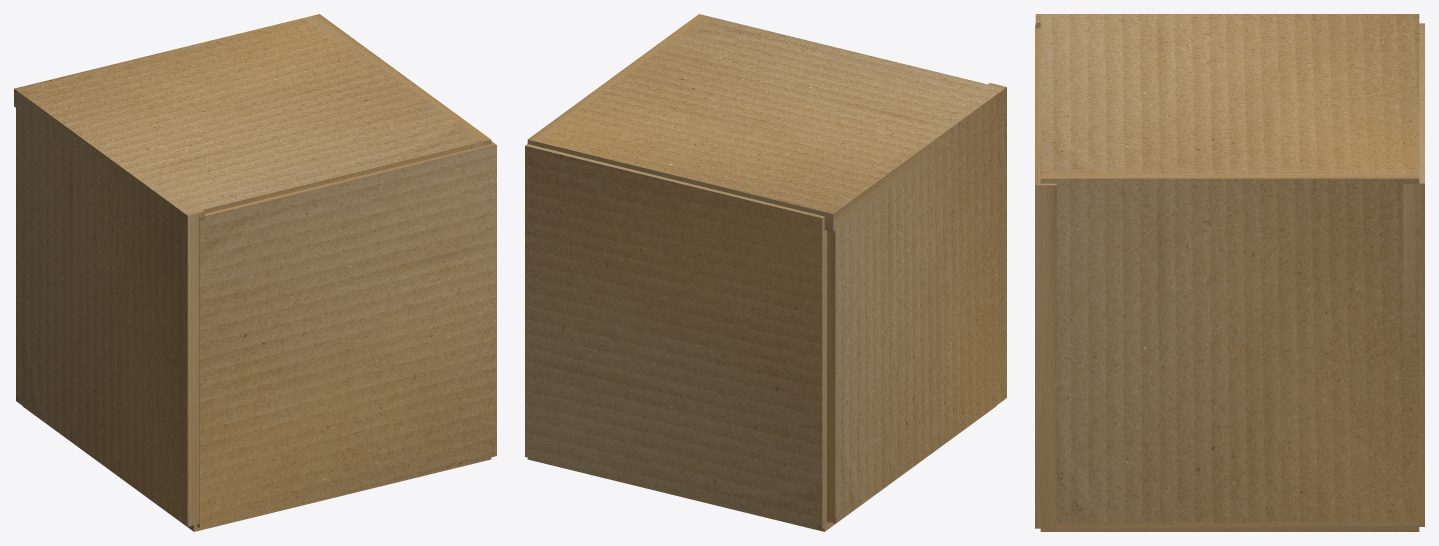
The model's file is arena.FBX.
The picture shows the model from 3 angles, left to right: view 1: azimuth 30°, elevation 25°; view 2: azimuth 150°, elevation 25°; view 3: azimuth 270°, elevation 25°; orthographic projection. The views are drawn at different scales.
Visible parts, largest first — view 1: Box006, Box001, Box004, Box002, Box003; view 2: Box005, Box001, Box004, Box002, Box003; view 3: Box002, Box004, Box006, Box005, Box003.
Part boxes in pixels (left/top/right/bottom): Box006: left=197, top=141, right=496, bottom=528; Box001: left=16, top=90, right=204, bottom=526; Box004: left=14, top=16, right=482, bottom=229; Box002: left=303, top=14, right=491, bottom=147; Box003: left=22, top=406, right=491, bottom=531; Box005: left=525, top=144, right=830, bottom=529; Box001: left=820, top=83, right=1006, bottom=523; Box004: left=536, top=16, right=1004, bottom=231; Box002: left=527, top=14, right=715, bottom=147; Box003: left=527, top=406, right=996, bottom=531; Box002: left=1040, top=169, right=1419, bottom=522; Box004: left=1040, top=14, right=1419, bottom=173; Box006: left=1035, top=25, right=1056, bottom=528; Box005: left=1403, top=23, right=1424, bottom=526; Box003: left=1040, top=514, right=1419, bottom=531.
Size of the model in its own units: 36.38 by 36 by 36.
Materials: 1 (1 with a texture image).
